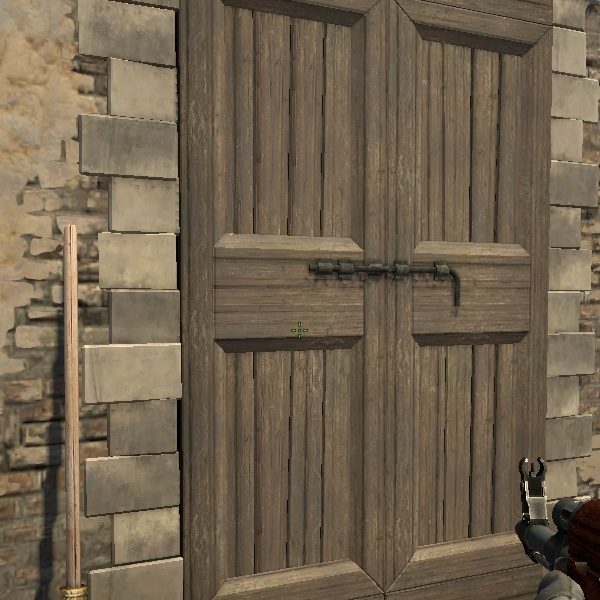t_body: (506, 442, 596, 600)
